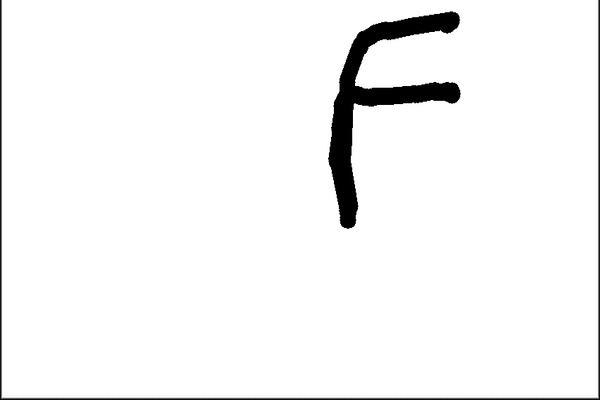F: (323, 5, 466, 232)
